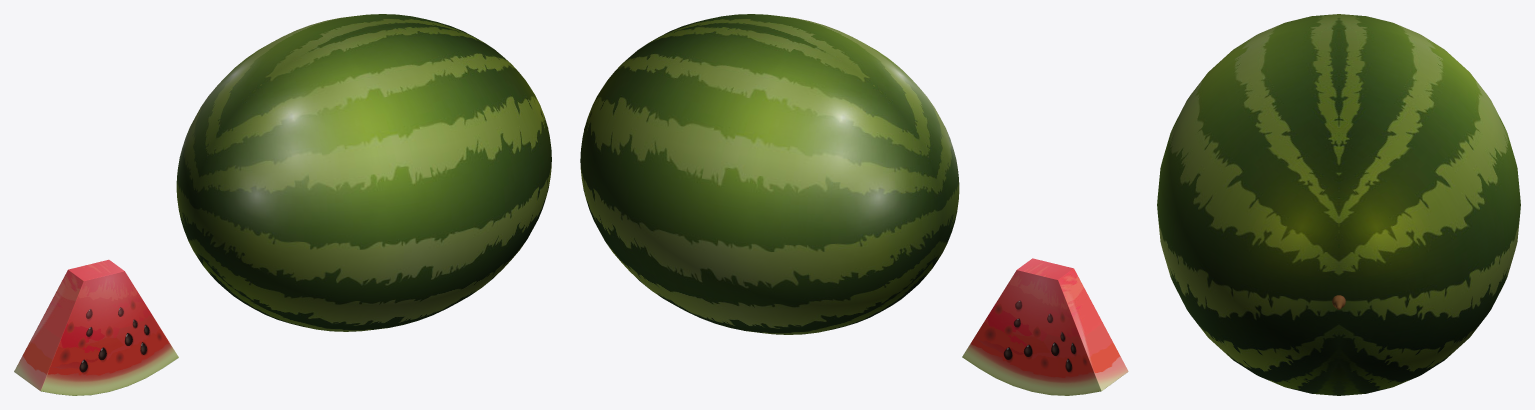
The model's file is watermelon.fbx.
3 renders of one model, left to right at view 1: azimuth 30°, elevation 25°; view 2: azimuth 150°, elevation 25°; view 3: azimuth 270°, elevation 25°, orthographic. The views are drawn at different scales.
Parts seen in each view (by area): view 1: watermelon, pieces; view 2: watermelon, pieces; view 3: watermelon.
Boxes of the visible parts, box(x1,y1,x2,y2) form: watermelon: box(176, 14, 551, 331); pieces: box(14, 259, 178, 395); watermelon: box(580, 14, 959, 334); pieces: box(962, 258, 1128, 395); watermelon: box(1157, 14, 1520, 395).
Bounding box in the file's own units: 9.06 × 4.71 × 4.71.
Materials: 1 (1 with a texture image).
